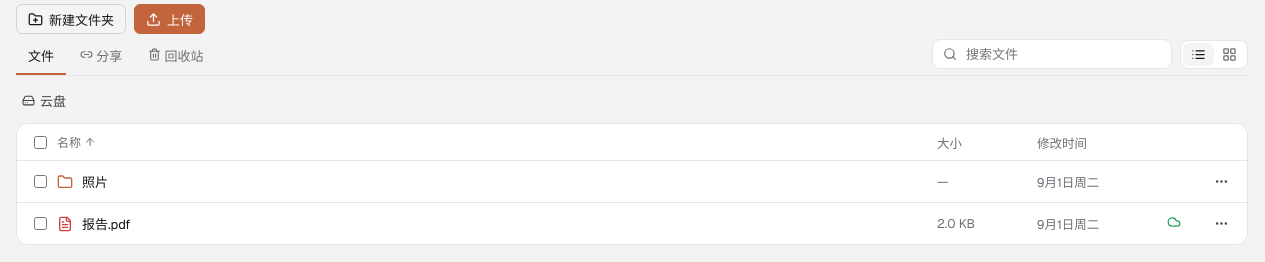
Test case: DrivePage › lists folders first and opens a folder
Expected: the number of rows is 3, [17,124,1247,160]; [17,160,1247,202]; [17,202,1247,244]
Expected: the text "照片" is shown, [82,172,108,191]
Click the button "照片": (82, 182) [57,168,108,195]
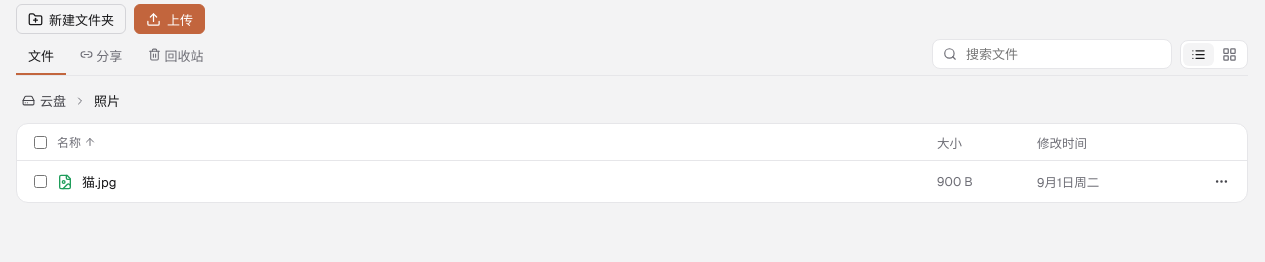
Now the text "猫.jpg" is shown, box [82,172,116,191]
